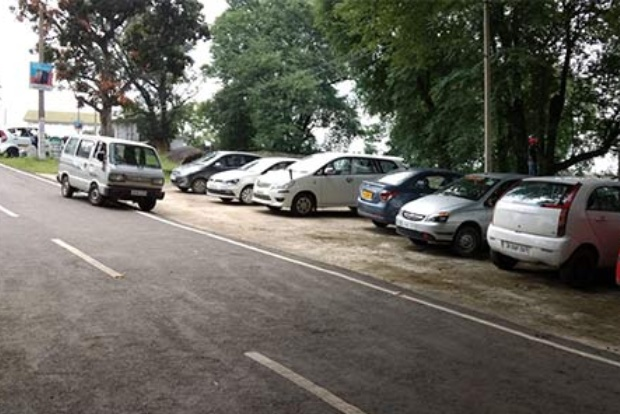car: (498, 181, 620, 273), (255, 152, 404, 220), (361, 162, 462, 248), (402, 174, 497, 259), (61, 135, 161, 207), (209, 157, 295, 210), (173, 149, 250, 189)
